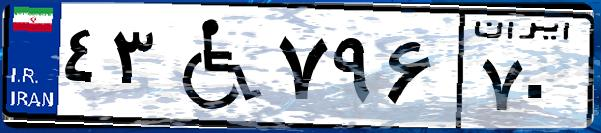0: (525, 38, 570, 115)
3: (110, 28, 158, 98)
4: (57, 26, 110, 100)
6: (385, 28, 445, 110)
7: (270, 28, 330, 110), (475, 38, 525, 113)
9: (330, 28, 385, 110)
ژ (معلولین و جانبازان): (158, 12, 270, 120)
